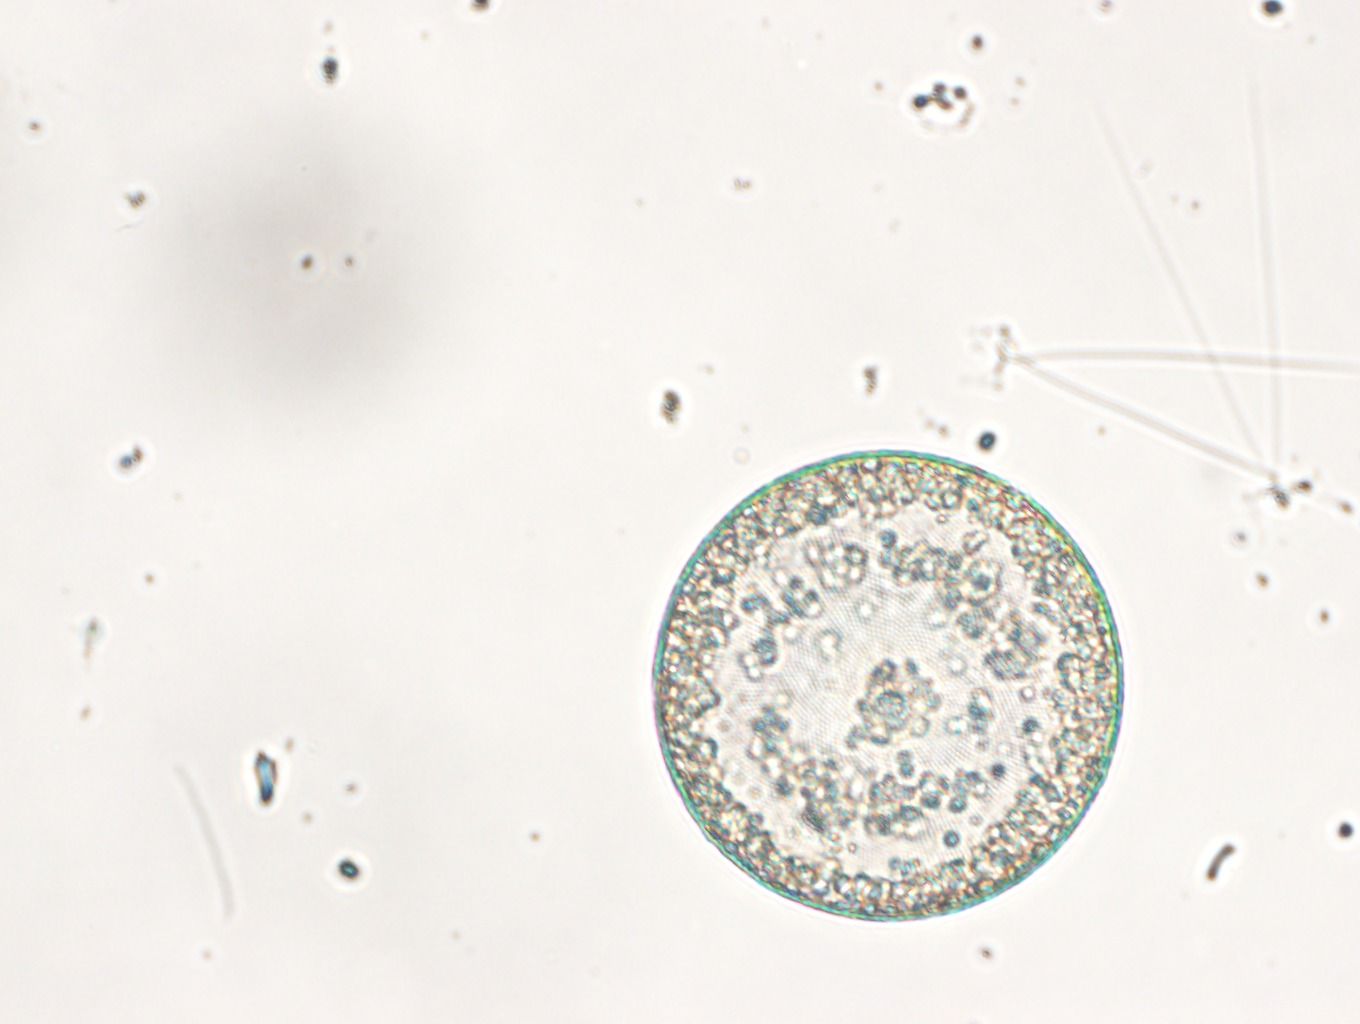coscinodiscus: (641, 445, 1137, 929)
